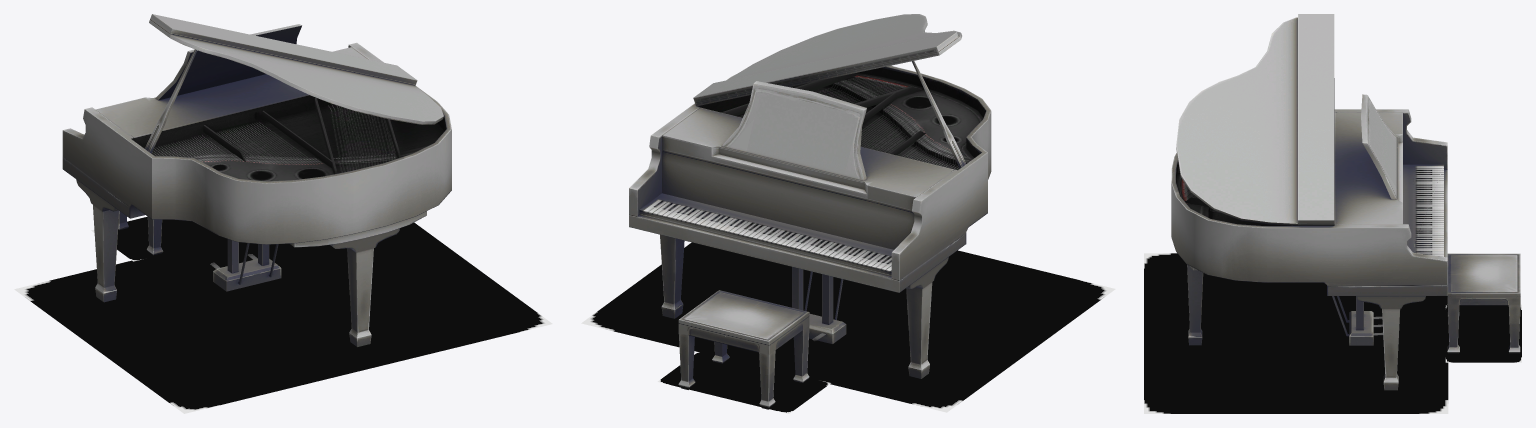
File: jj_ty_piano01.FBX
The picture shows the model from 3 angles, left to right: view 1: azimuth 30°, elevation 25°; view 2: azimuth 150°, elevation 25°; view 3: azimuth 270°, elevation 25°; orthographic projection. The views are drawn at different scales.
Visible parts, largest first — view 1: jj_ty_piano01_01, shadow; view 2: jj_ty_piano01_01, shadow; view 3: jj_ty_piano01_01, shadow.
Part boxes in pixels (box(x1,y1,x2,y2)): jj_ty_piano01_01: box(62, 14, 451, 346); shadow: box(14, 216, 552, 413); jj_ty_piano01_01: box(629, 14, 991, 409); shadow: box(581, 242, 1115, 413); jj_ty_piano01_01: box(1171, 14, 1520, 390); shadow: box(1144, 253, 1521, 413).
Size of the model in its own units: 82.06 by 65.21 by 81.49.
